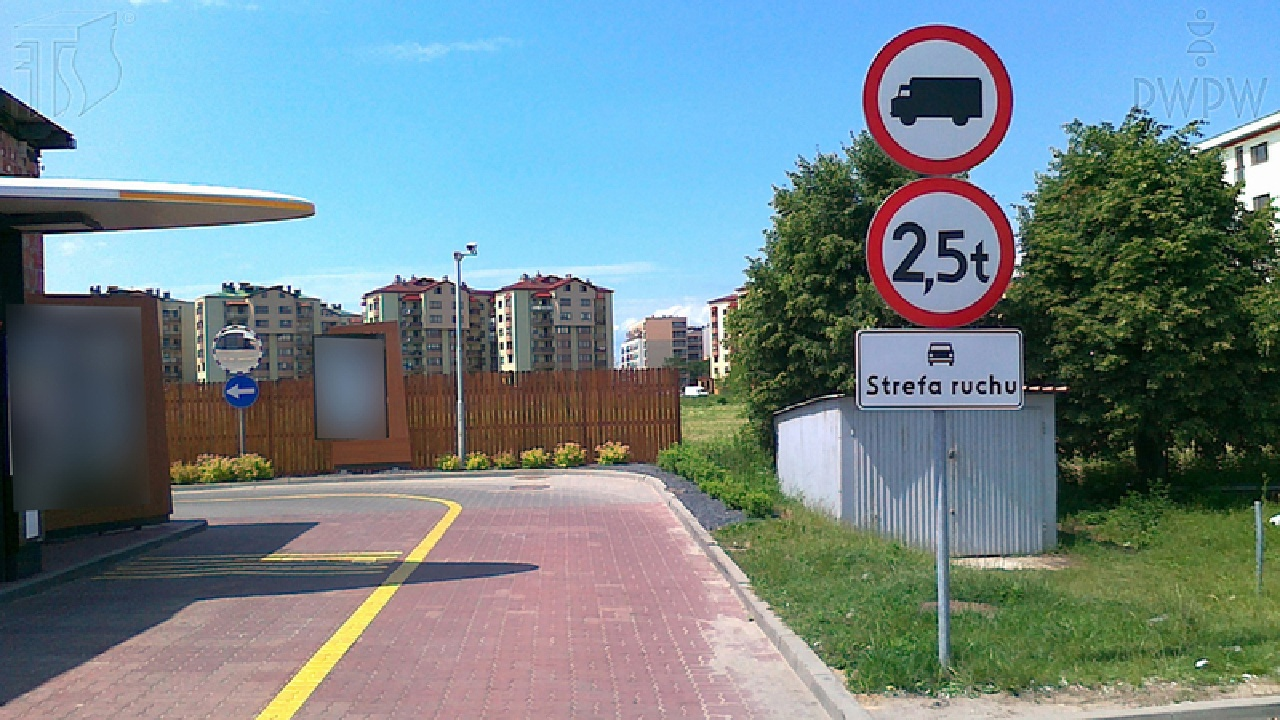B5: (863, 25, 1013, 176)
